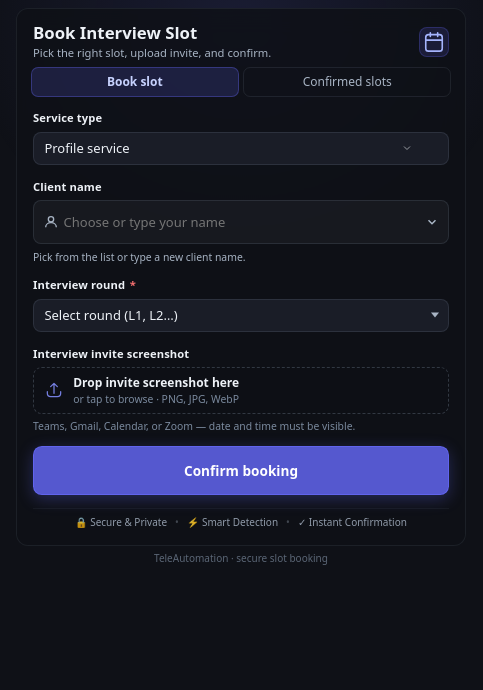
Test case: Round-wise payment — non-roster candidate gets payment card › shows payment card for a manually typed name not in roster
The image size is (483, 690).
Click the button "Profile service" at coordinates (87, 148), box [33, 132, 449, 165]
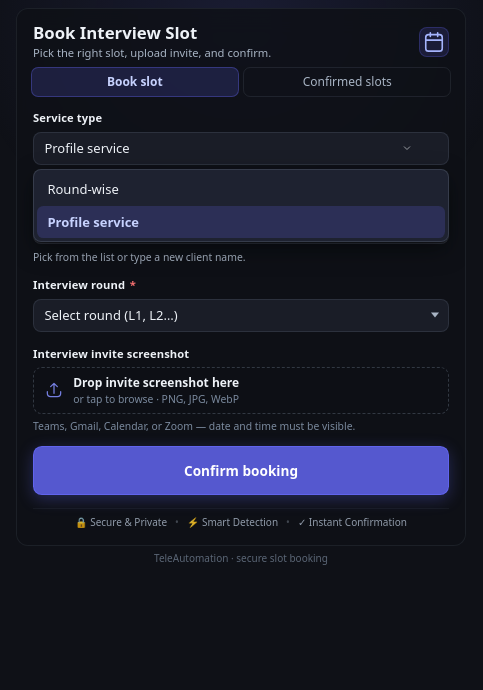
Click the list item "Round-wise" at coordinates (83, 189), box [47, 180, 119, 198]
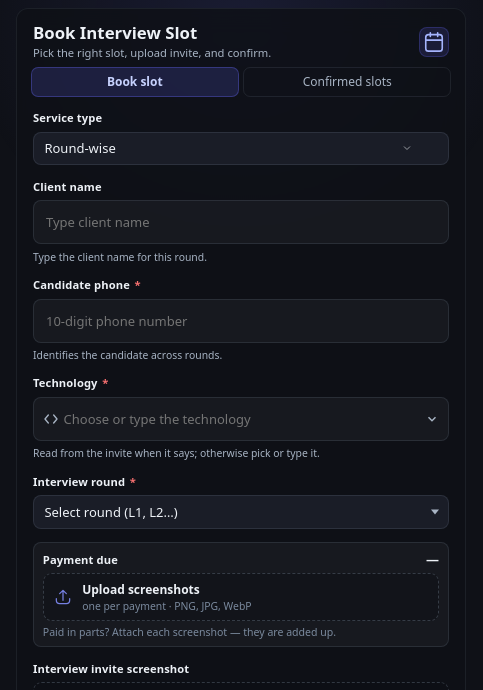
Type "venkat" into the field with placeholder "Type client name" at coordinates (241, 222), box [33, 200, 449, 244]
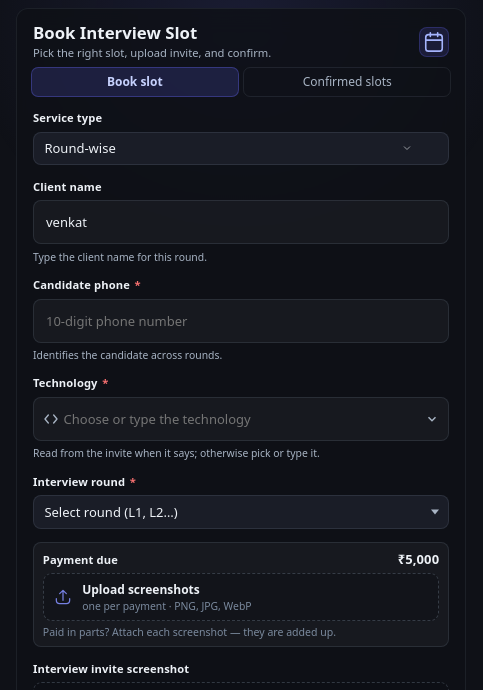
Now the text "Payment due" is shown, box [43, 552, 118, 568]
Now the text "₹5,000" is shown, box [398, 550, 439, 568]
